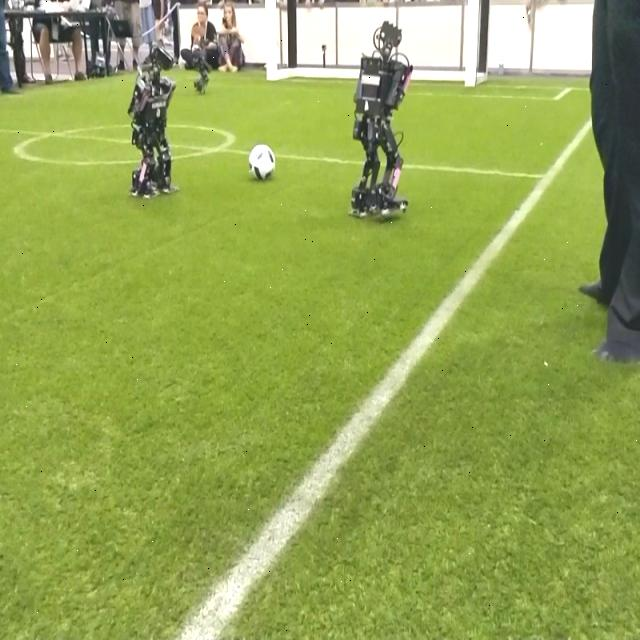ball: (246, 142, 277, 183)
goalpost: (462, 0, 480, 89), (264, 0, 279, 84)
